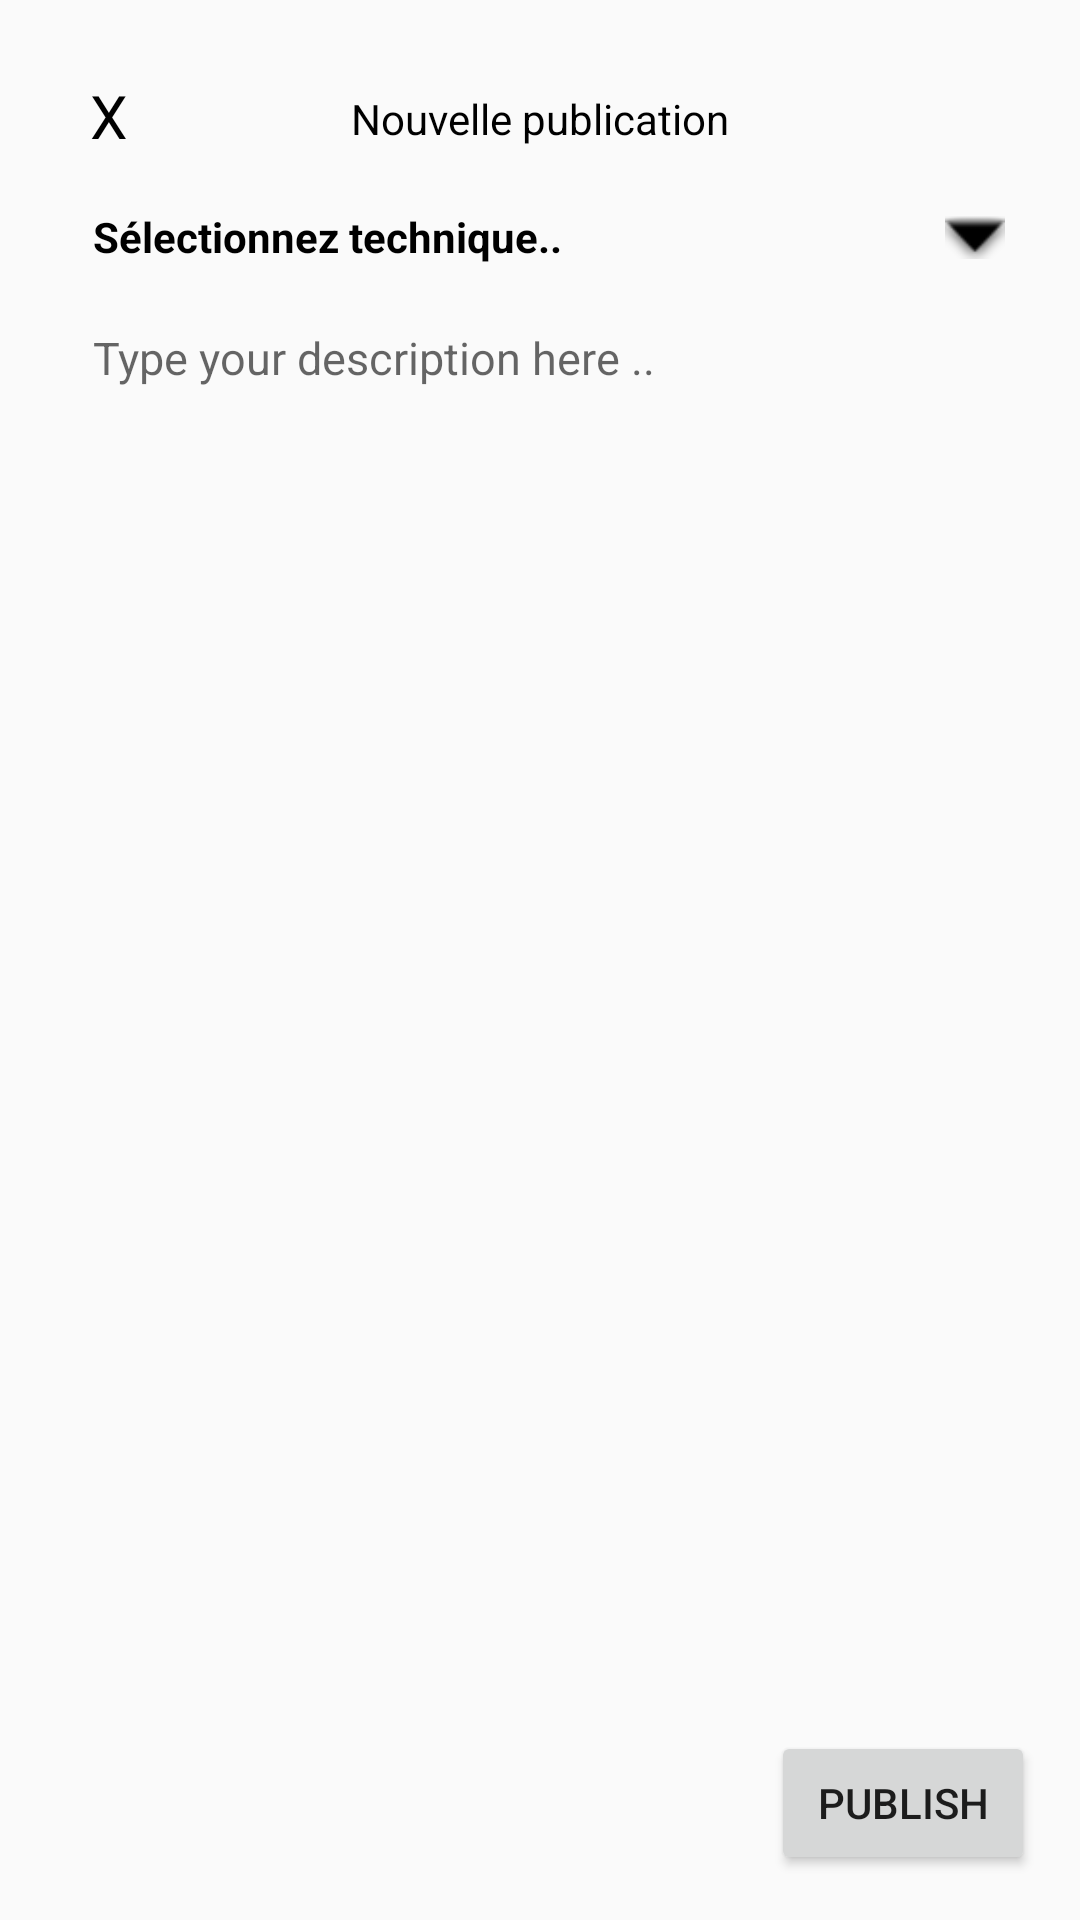

Icon click points for this 1080w x 1920h phone screenshot, format (x,y):
arrow down float: (975,237)
